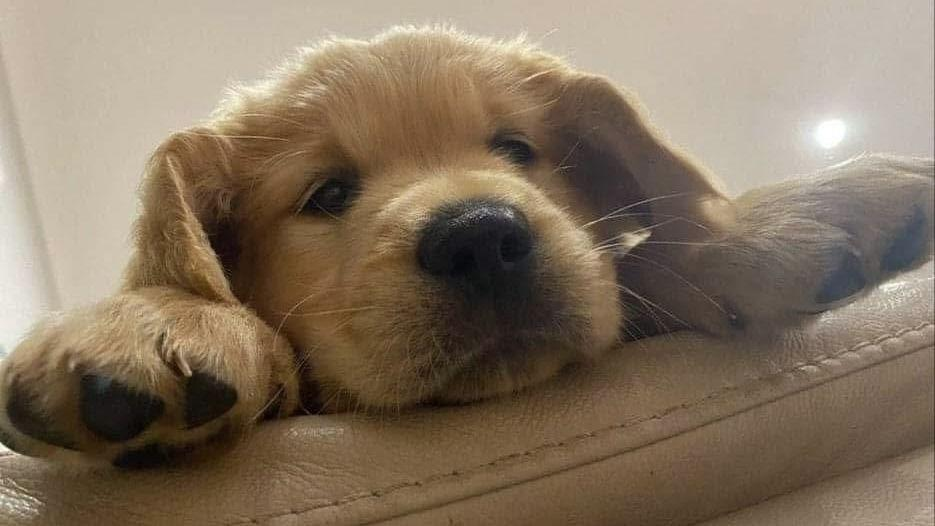puppy-dog: (1, 21, 935, 464)
